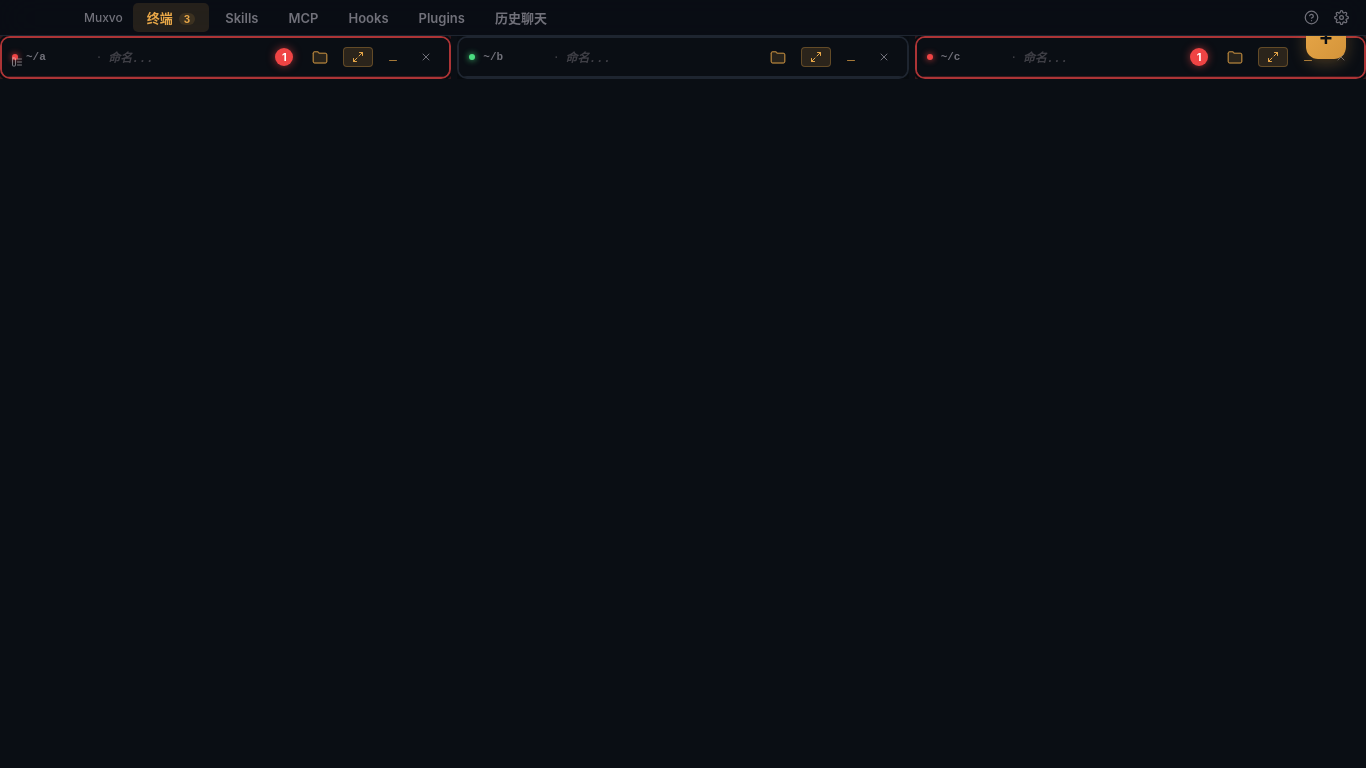
Scenario: DOGFOOD_M3_18：等待浮卡覆盖层门控（legacy overlayActive 对齐） › 配置面板（Skills）+ waiting → 浮卡渲染；点卡片正文关面板回终端
The width and height of the screenshot is (1366, 768).
Click the button with class "menu-bar__tab" showing "Skills" at (242, 18), box [211,3,272,32]
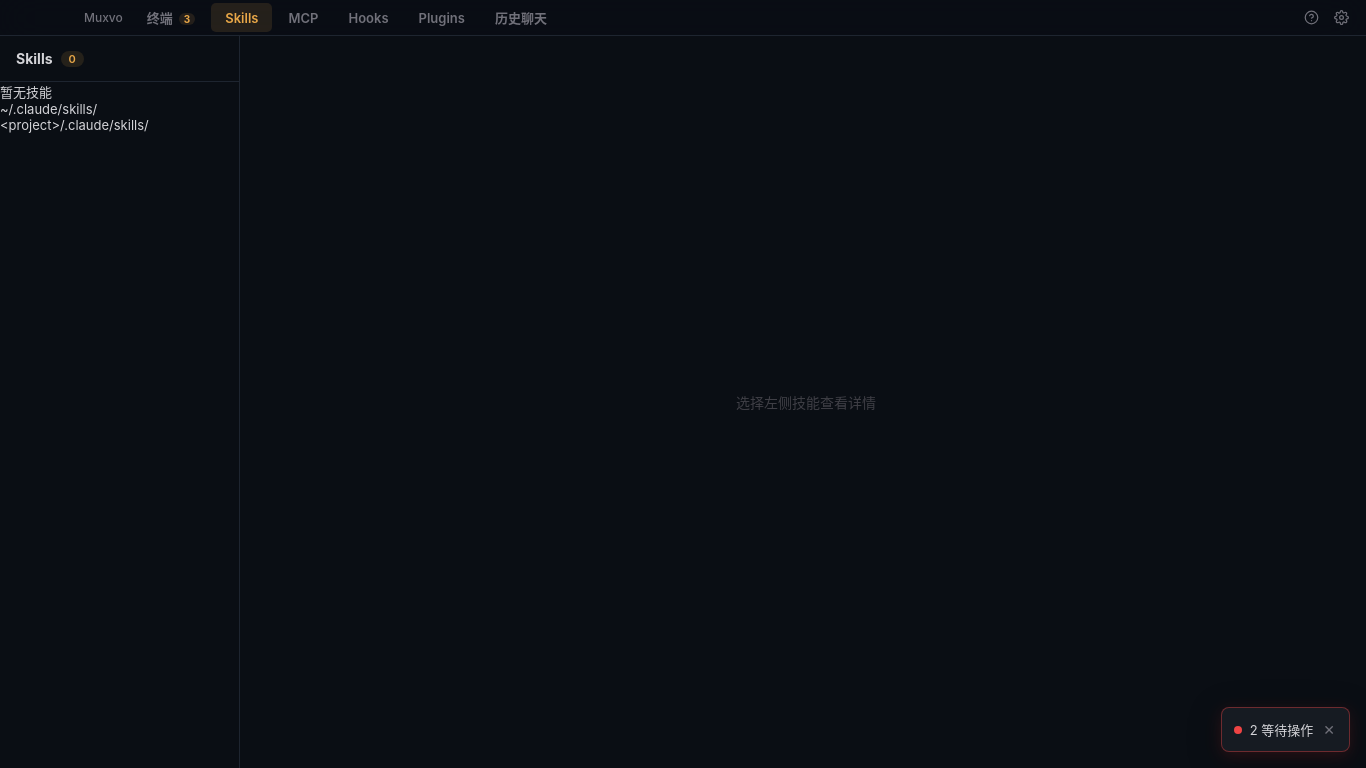
Result: the element with class "live-panel-overlay" is shown
Result: the element with class "waiting-card__dot" is shown at [1234,726,1242,734]
Click the element with class "waiting-card__dot" at (1285, 730), box [1221,707,1350,752]
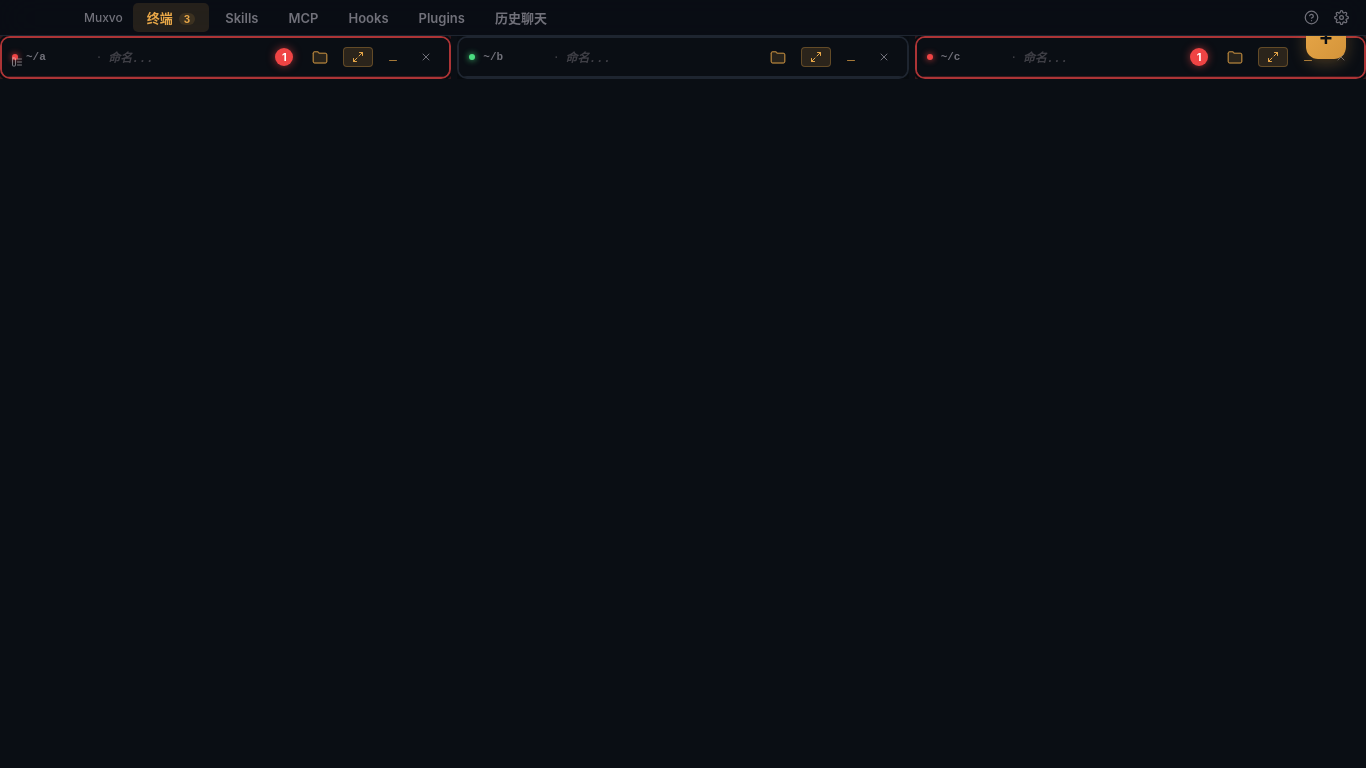
Result: the element with class "live-panel-overlay" is gone
Result: the element with class "waiting-card__dot" is gone
